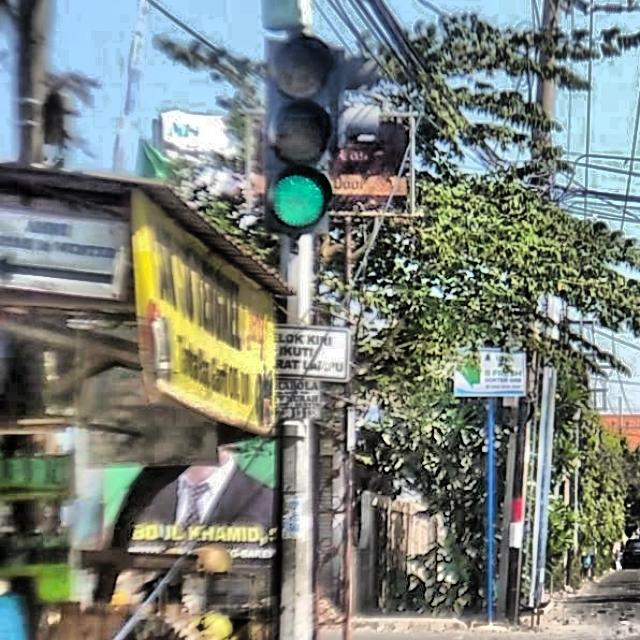green: (266, 34, 333, 234)
